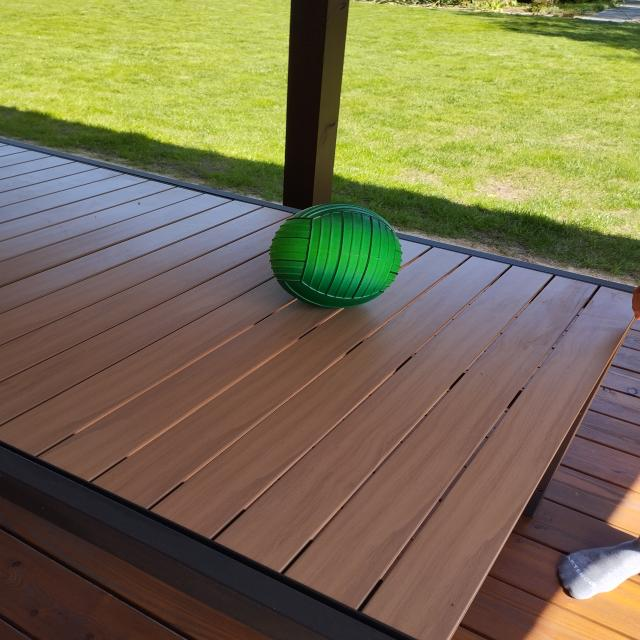zielona: (271, 203, 402, 309)
